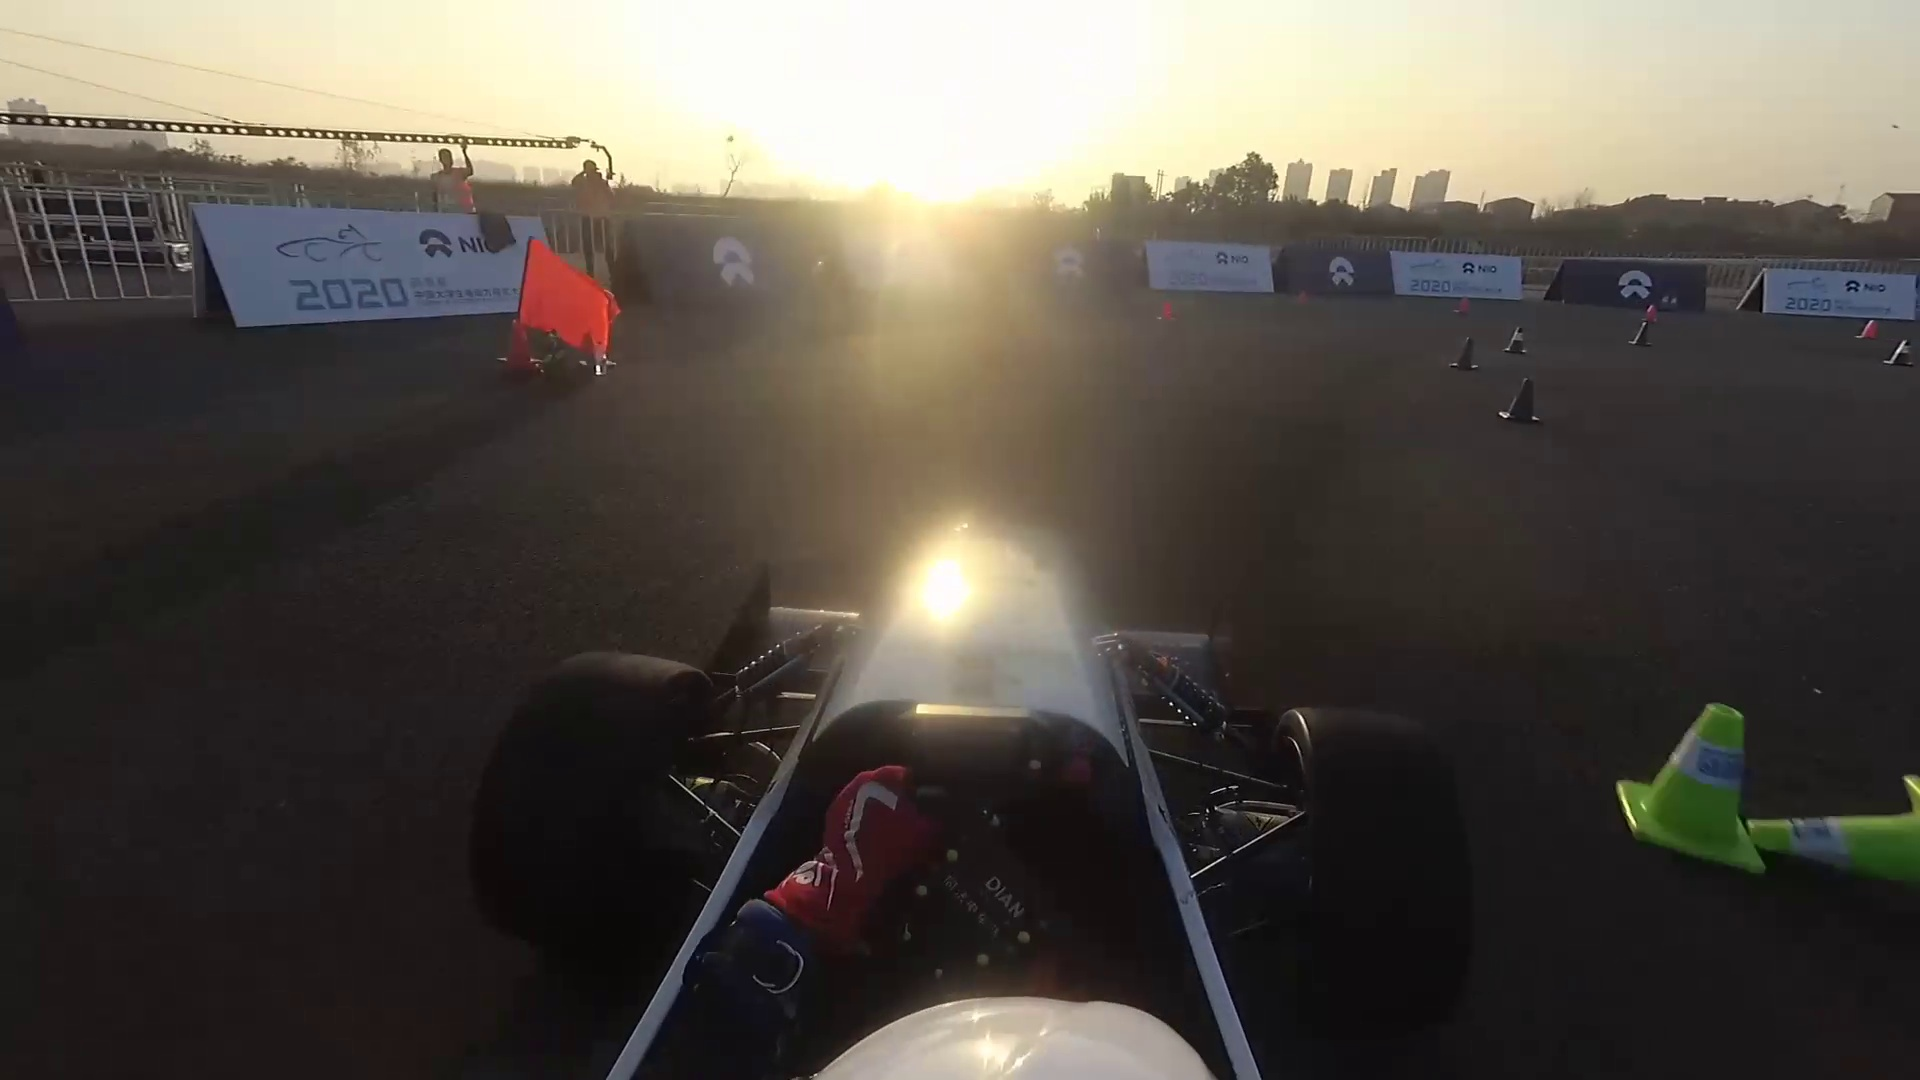blue_cone: (1498, 378, 1543, 425), (1449, 335, 1478, 371), (1884, 338, 1917, 368), (1503, 326, 1528, 353), (1629, 322, 1654, 348)
red_cone: (497, 320, 535, 369), (1855, 318, 1882, 340), (1639, 305, 1662, 326), (1452, 295, 1473, 314), (1159, 301, 1175, 320)
